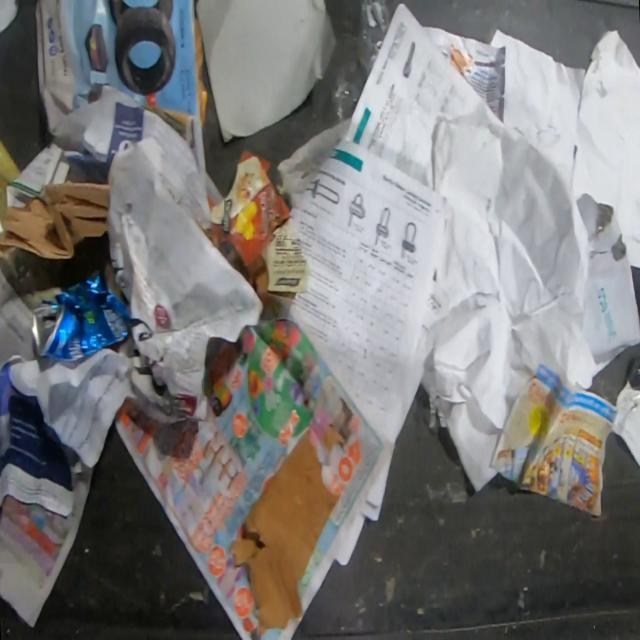cardboard: (206, 149, 308, 297)
metal: (27, 274, 131, 362)
soft_plastic: (332, 0, 401, 123)
